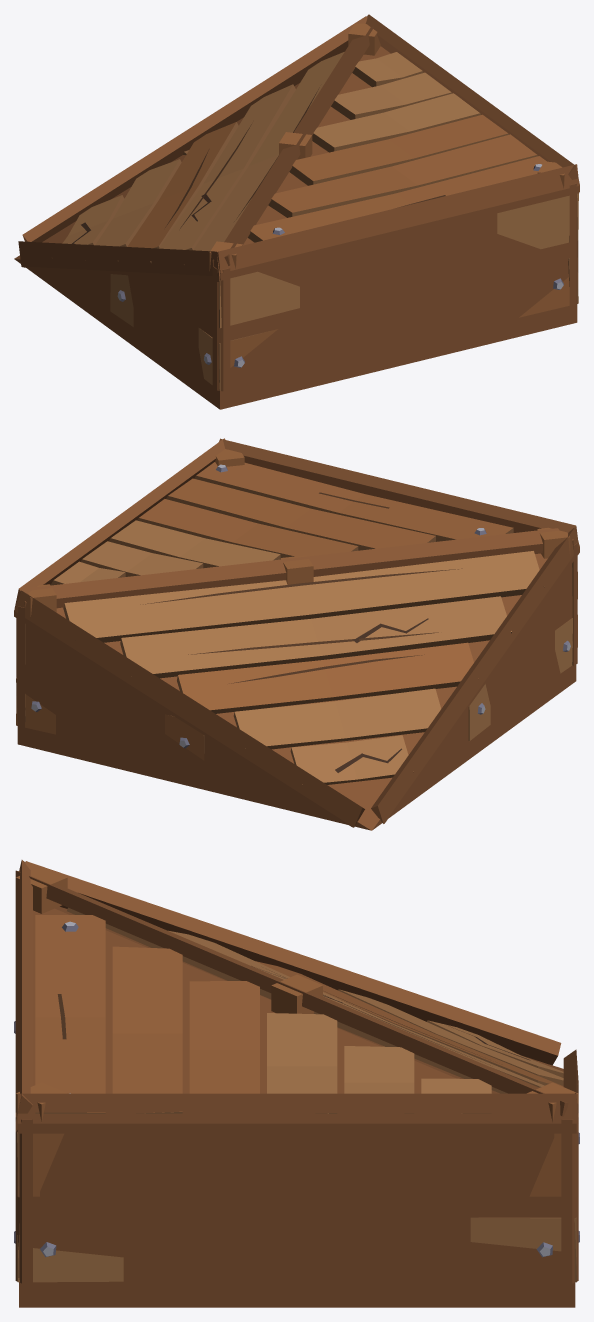
Rendered from cone_plank_tent_crack1.glb.
The picture shows the model from 3 angles, top to bottom: view 1: azimuth 30°, elevation 25°; view 2: azimuth 150°, elevation 25°; view 3: azimuth 270°, elevation 25°; orthographic projection. The views are drawn at different scales.
Visible parts, largest first — view 1: Body; view 2: Body; view 3: Body.
Part boxes in pixels (x1,y1,x2,y2): Body: (14,14,579,409); Body: (14,438,579,830); Body: (14,860,579,1307).
Size of the model in its own units: 4.01 by 1.67 by 4.01.
